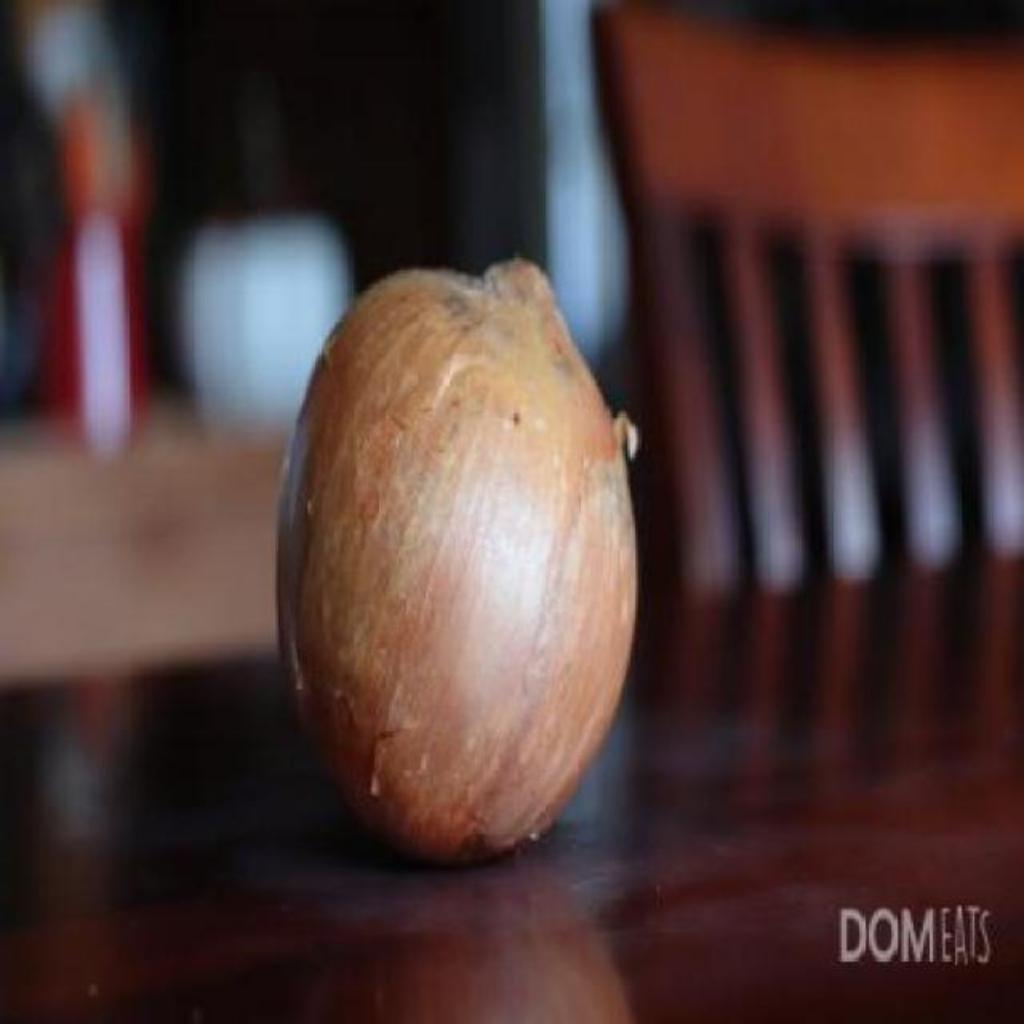Onion: (282, 261, 638, 863)
